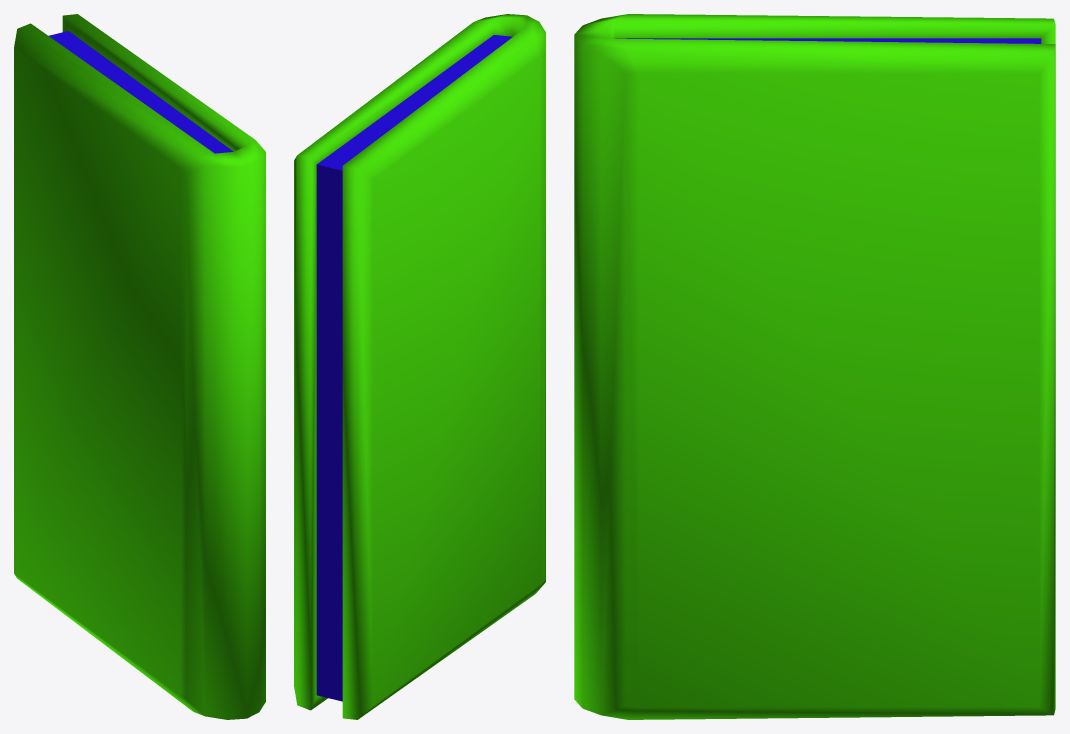
Rendered from BookV3.fbx.
3 renders of one model, left to right at view 1: azimuth 30°, elevation 25°; view 2: azimuth 150°, elevation 25°; view 3: azimuth 270°, elevation 25°, orthographic. The views are drawn at different scales.
Parts seen in each view (by area): view 1: Cube, Cube.001; view 2: Cube, Cube.001; view 3: Cube, Cube.001.
Part boxes in pixels (x1,y1,x2,y2): Cube: (14, 14, 265, 719); Cube.001: (48, 31, 233, 153); Cube: (294, 14, 545, 719); Cube.001: (316, 35, 512, 701); Cube: (574, 14, 1055, 719); Cube.001: (615, 38, 1041, 43).
Size of the model in its own units: 21.75 by 147 by 95.01.
